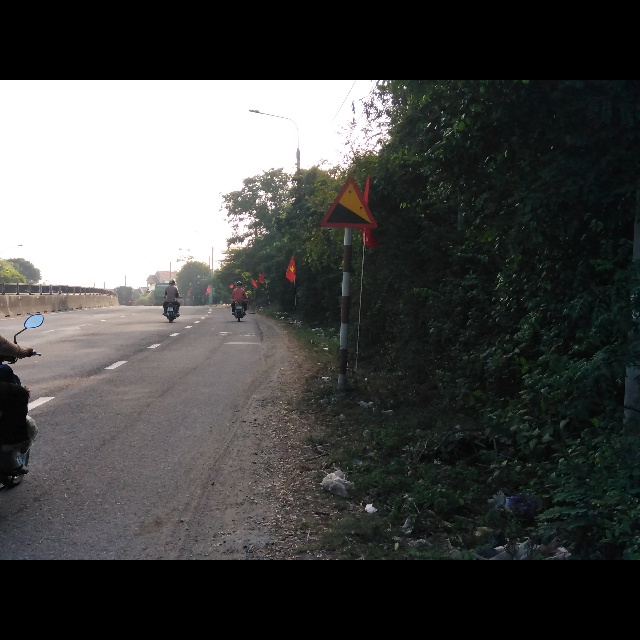Dốc lên nguy hiểm: (320, 178, 377, 231)
